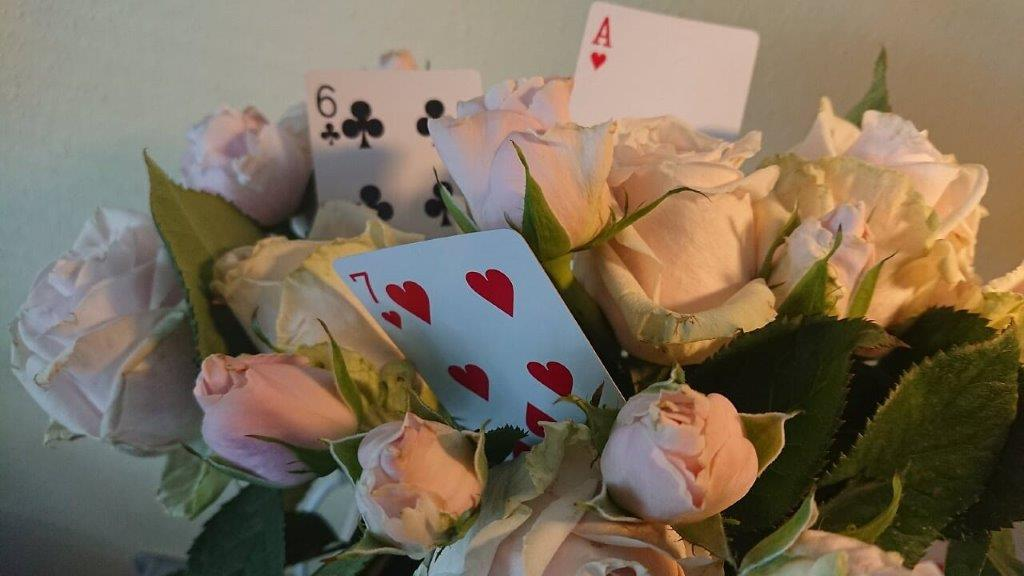6C: (313, 80, 342, 148)
7H: (343, 269, 407, 334)
AH: (586, 14, 617, 74)
